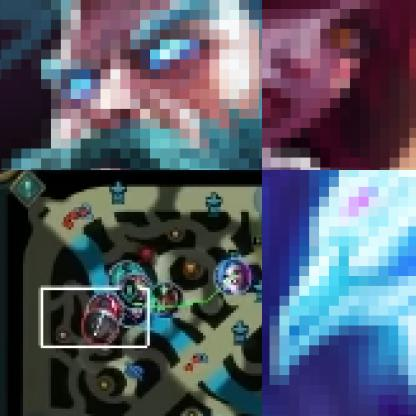Anivia: (262, 170, 415, 415)
Hecarim: (111, 260, 150, 296)
Jinx: (214, 256, 253, 295)
Karma: (147, 283, 185, 316)
Leblanc: (114, 293, 150, 326)
Senna: (82, 311, 121, 346)
Sion: (86, 292, 122, 328)
Xayah: (262, 0, 415, 169)
Zilean: (0, 0, 261, 169)
